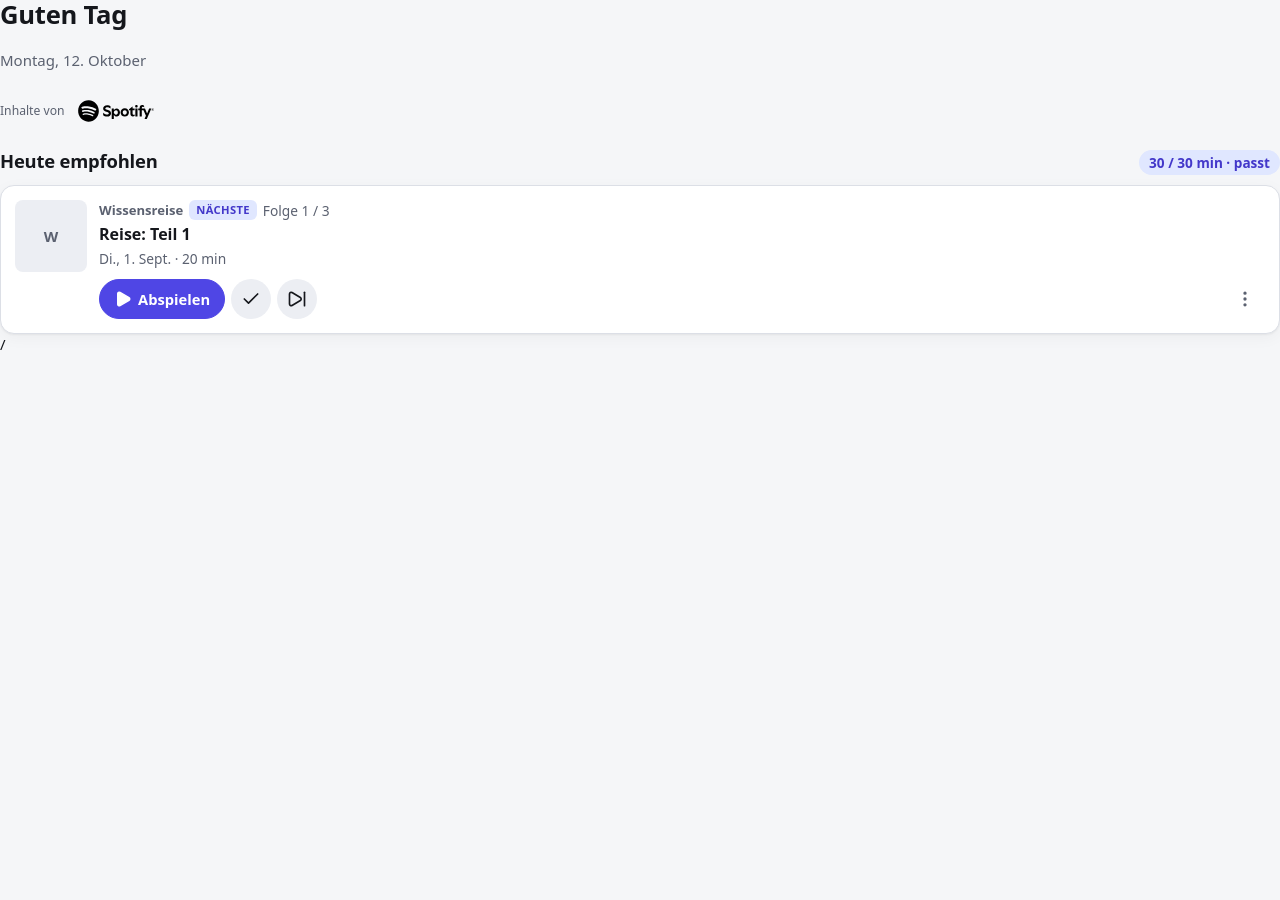
Test: TodayPage › opens the episode sheet from a card
Click the button "Reise: Teil 1" at [145, 234], box [99, 224, 1265, 245]
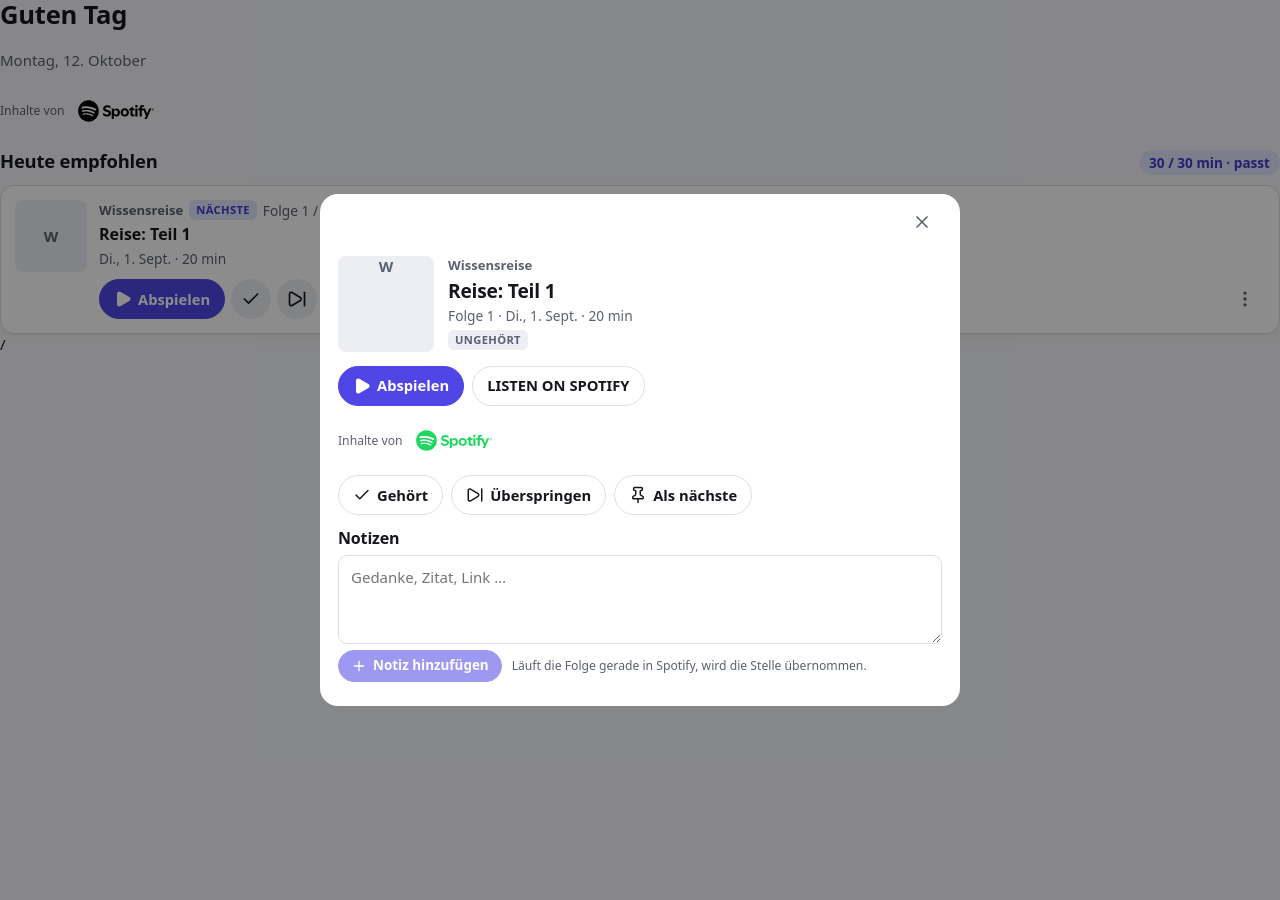
Check: the heading "Reise: Teil 1" is shown, box [448, 277, 556, 304]
Click the button named "Schließen" at [922, 222], box [902, 202, 942, 242]
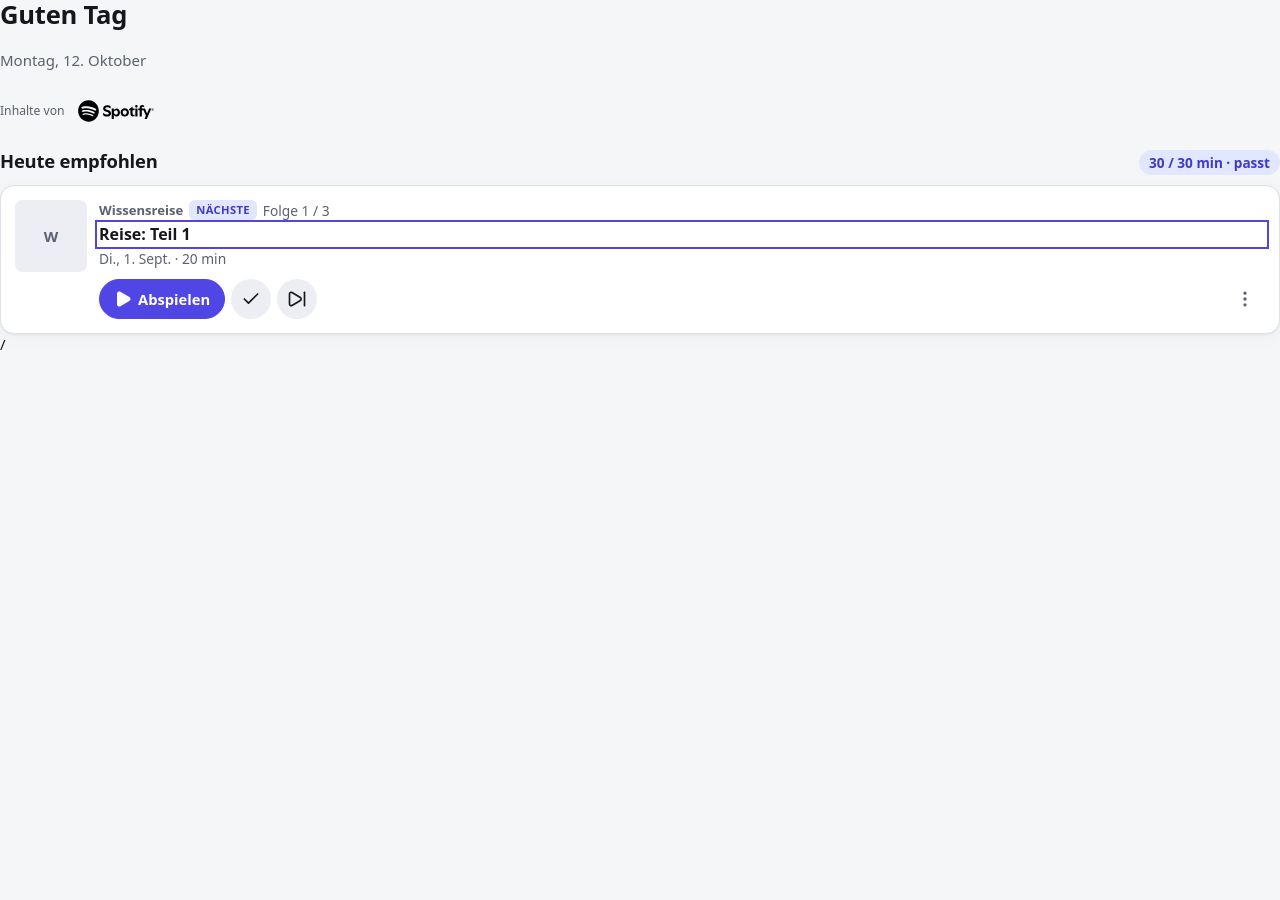
Check: the dialog is gone
